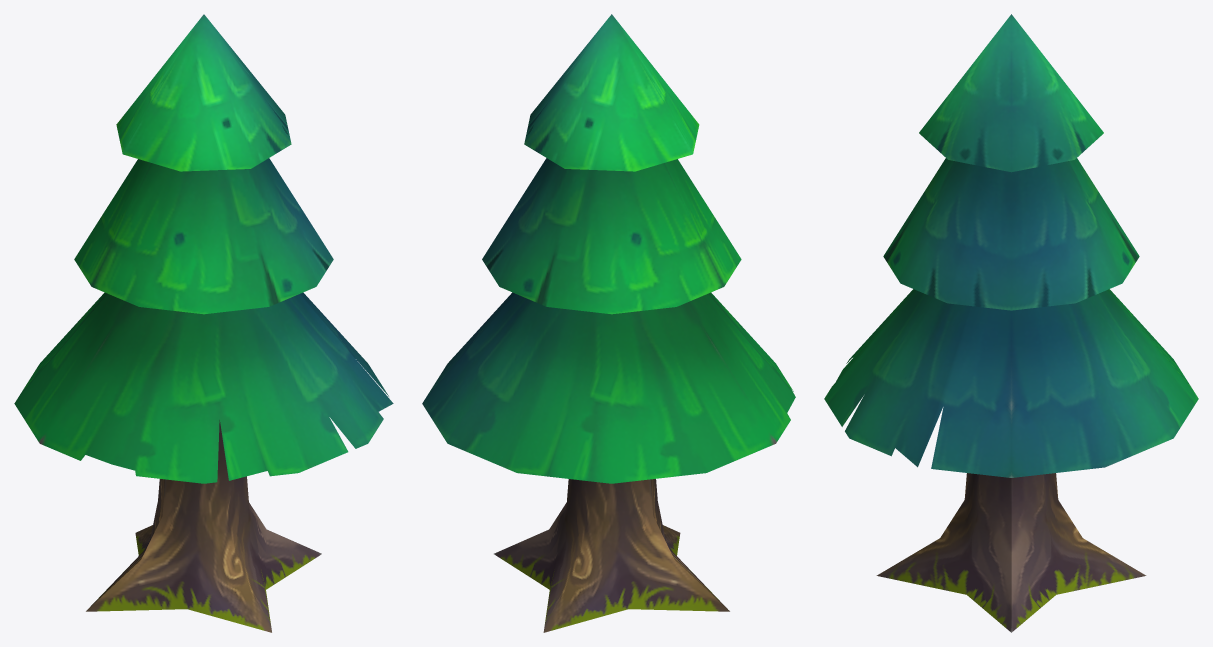
The model's file is scenes_construction_tree01.FBX.
The picture shows the model from 3 angles, left to right: view 1: azimuth 30°, elevation 25°; view 2: azimuth 150°, elevation 25°; view 3: azimuth 270°, elevation 25°; orthographic projection.
Visible parts, largest first — view 1: scenes_construction_tree01; view 2: scenes_construction_tree01; view 3: scenes_construction_tree01.
Part boxes in pixels (x1,y1,x2,y2): scenes_construction_tree01: (14, 14, 393, 632); scenes_construction_tree01: (422, 14, 795, 632); scenes_construction_tree01: (824, 14, 1198, 632).
Size of the model in its own units: 857 by 1418 by 857.
